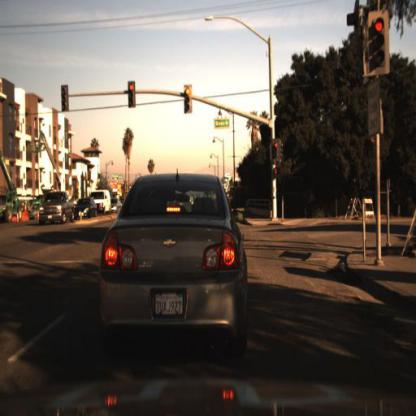car: (97, 169, 251, 362), (38, 192, 75, 228), (73, 196, 100, 218), (98, 191, 112, 220)
trafficLight: (183, 85, 194, 116)
trafficLight-Red: (370, 15, 388, 70), (129, 84, 137, 112), (272, 137, 279, 162), (275, 140, 280, 156)
truck: (95, 189, 113, 220)
